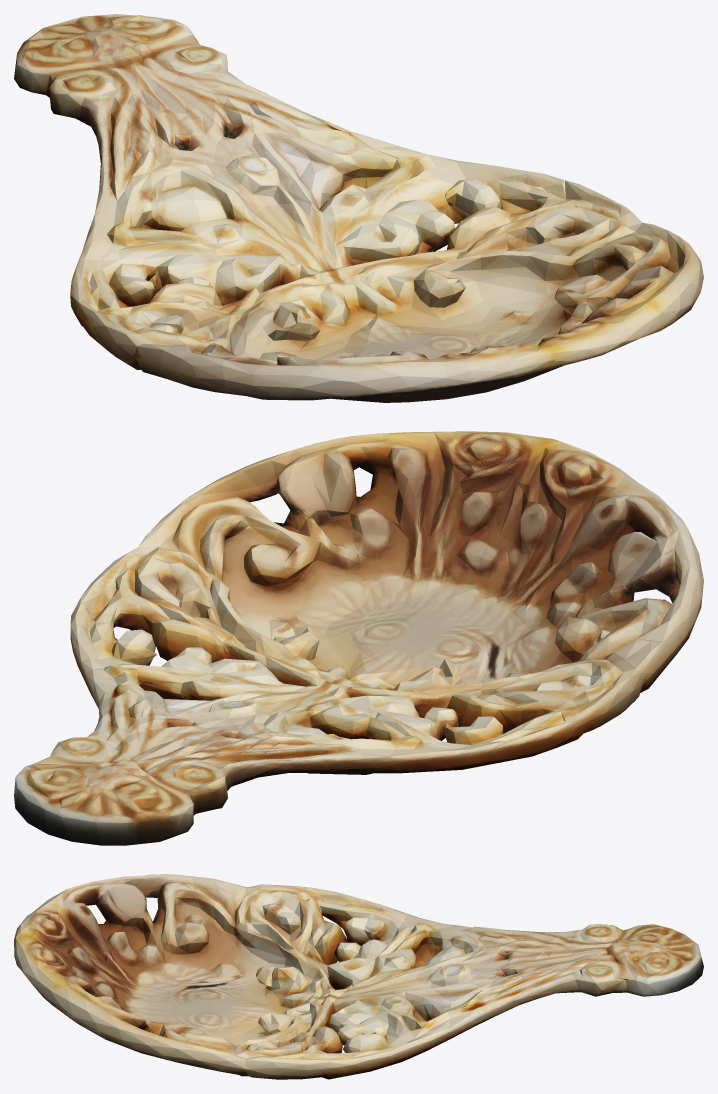
The model's file is carved-bone-spoon-3d.jpeg.glb.
The picture shows the model from 3 angles, top to bottom: view 1: azimuth 30°, elevation 25°; view 2: azimuth 150°, elevation 25°; view 3: azimuth 270°, elevation 25°; orthographic projection. The views are drawn at different scales.
Parts seen in each view (by area): view 1: world; view 2: world; view 3: world.
Boxes of the visible parts, x1,y1,x2,y2 form: world: (14, 14, 703, 402); world: (14, 431, 703, 845); world: (14, 874, 703, 1079).
Size of the model in its own units: 0.6106 by 0.1452 by 0.9994.
1 material, 1 textured.
